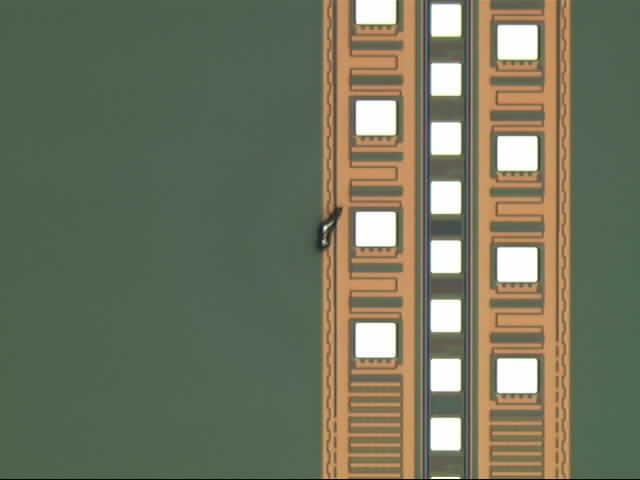PIQ PARTICLE: (313, 203, 351, 254)
